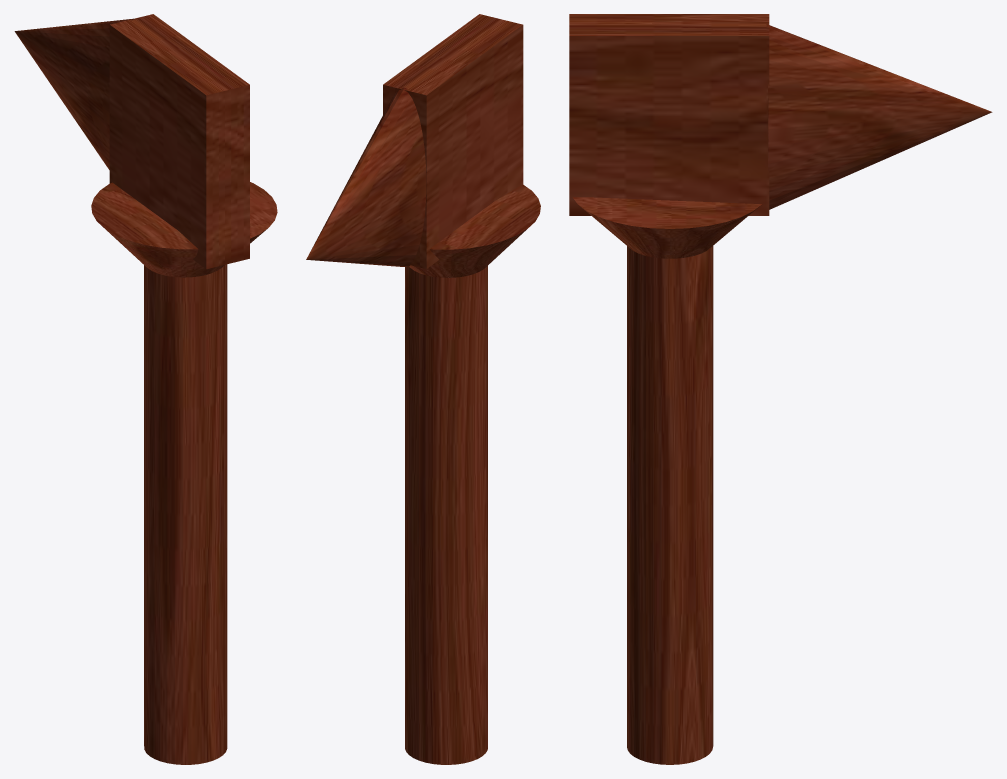
File: redwood sign2.fbx
3 renders of one model, left to right at view 1: azimuth 30°, elevation 25°; view 2: azimuth 150°, elevation 25°; view 3: azimuth 270°, elevation 25°, orthographic. The views are drawn at different scales.
Parts seen in each view (by area): view 1: Cylinder.003, Cube.004, Cone.001, Cylinder.002; view 2: Cylinder.003, Cube.004, Cone.001, Cylinder.002; view 3: Cylinder.003, Cube.004, Cone.001, Cylinder.002.
Boxes of the visible parts, bbox=[...] form: Cylinder.003: bbox=[144, 264, 227, 764]; Cube.004: bbox=[109, 14, 249, 269]; Cone.001: bbox=[14, 18, 136, 169]; Cylinder.002: bbox=[91, 182, 277, 277]; Cylinder.003: bbox=[405, 266, 487, 764]; Cube.004: bbox=[383, 14, 523, 268]; Cone.001: bbox=[306, 87, 428, 266]; Cylinder.002: bbox=[409, 184, 540, 277]; Cylinder.003: bbox=[627, 246, 713, 764]; Cube.004: bbox=[569, 14, 769, 215]; Cone.001: bbox=[766, 24, 992, 209]; Cylinder.002: bbox=[573, 197, 761, 258].
Bounding box in the file's own units: 33.55 × 140 × 74.55.
